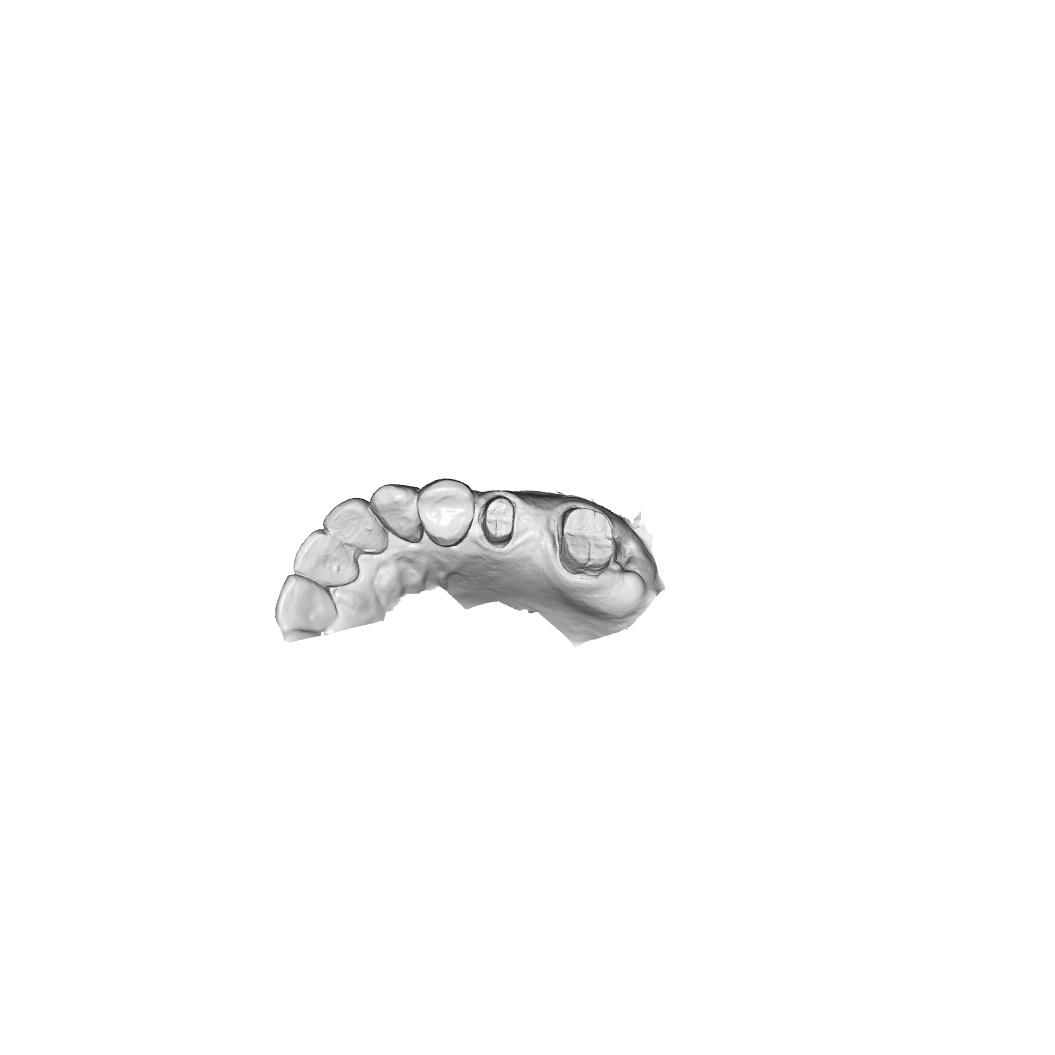canine: (368, 483, 423, 544)
crown: (559, 506, 616, 577), (481, 493, 520, 546)
incisor: (291, 529, 360, 590), (321, 495, 389, 556), (273, 574, 339, 633)
premolar: (416, 478, 477, 549)
